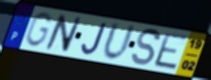E: (153, 31, 190, 72)
G: (23, 12, 54, 49)
J: (81, 21, 109, 57)
N: (43, 13, 83, 55)
S: (130, 27, 162, 67)
U: (101, 20, 137, 63)
